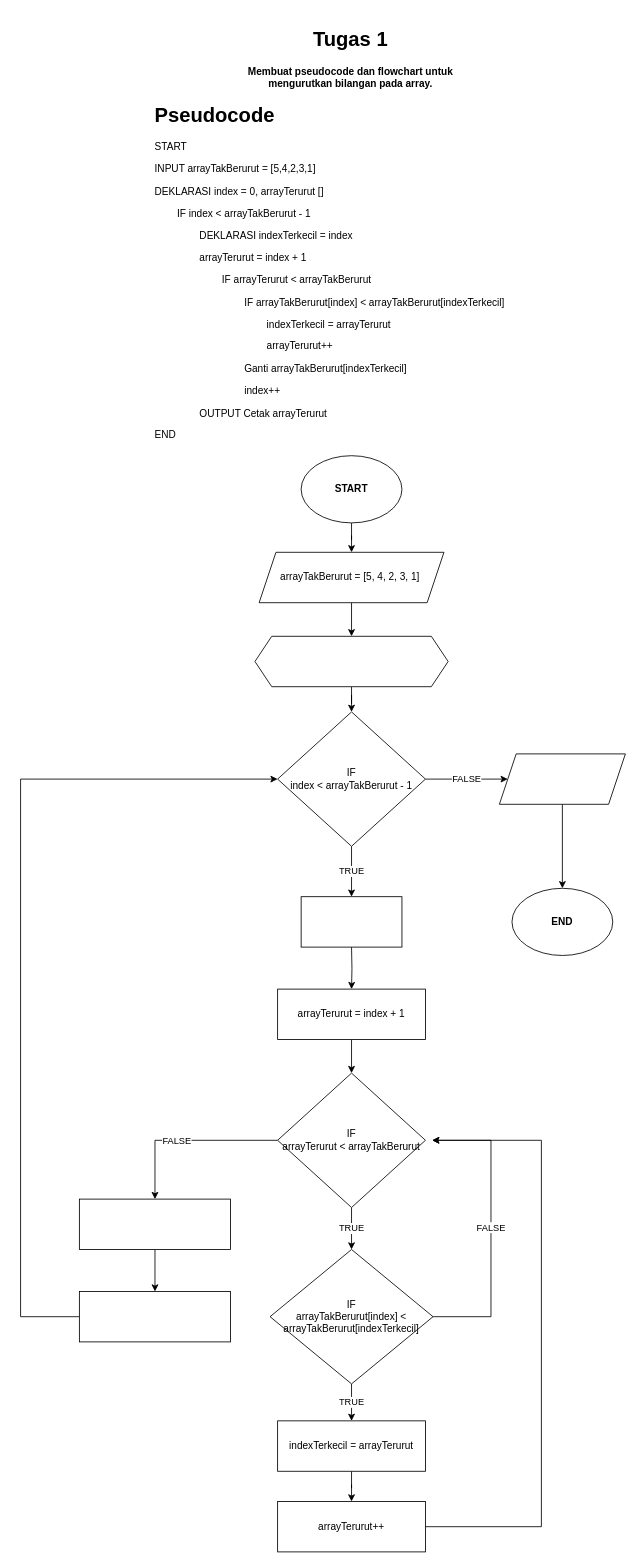
Image size: 640x1567. Some labels were removed from this diagram. The shapes that lost their labels are listed below. From the top down, each one's box as (x1, y1, x2, y2) in pixels, then its label:
(254, 635, 448, 687): index = 0, arrayTerurut []
(499, 753, 625, 804): Cetak arrayTerurut
(300, 896, 402, 947): indexTerkecil = index
(79, 1198, 231, 1250): arrayTakBerurut[indexTerkecil], arrayTakBerurut[index]
(79, 1291, 231, 1342): index++
